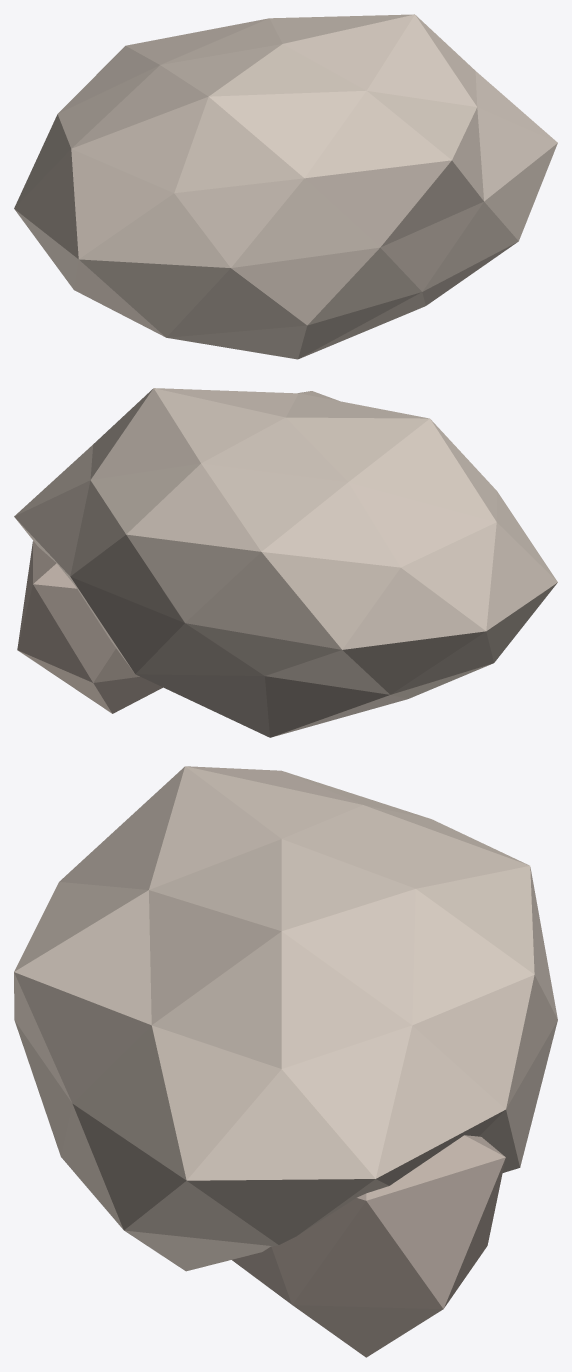
The model's file is boulder.glb.
The picture shows the model from 3 angles, top to bottom: view 1: azimuth 30°, elevation 25°; view 2: azimuth 150°, elevation 25°; view 3: azimuth 270°, elevation 25°; orthographic projection. The views are drawn at different scales.
Parts seen in each view (by area): view 1: boulder; view 2: boulder; view 3: boulder.
Part boxes in pixels (bbox=[...]): boulder: bbox=[14, 14, 557, 359]; boulder: bbox=[14, 388, 557, 737]; boulder: bbox=[14, 766, 557, 1357].
Bounding box in the file's own units: 5.91 × 3.65 × 4.25.
